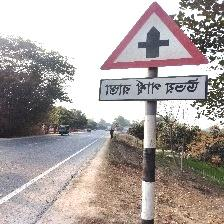Crossroad: (95, 0, 208, 100)
